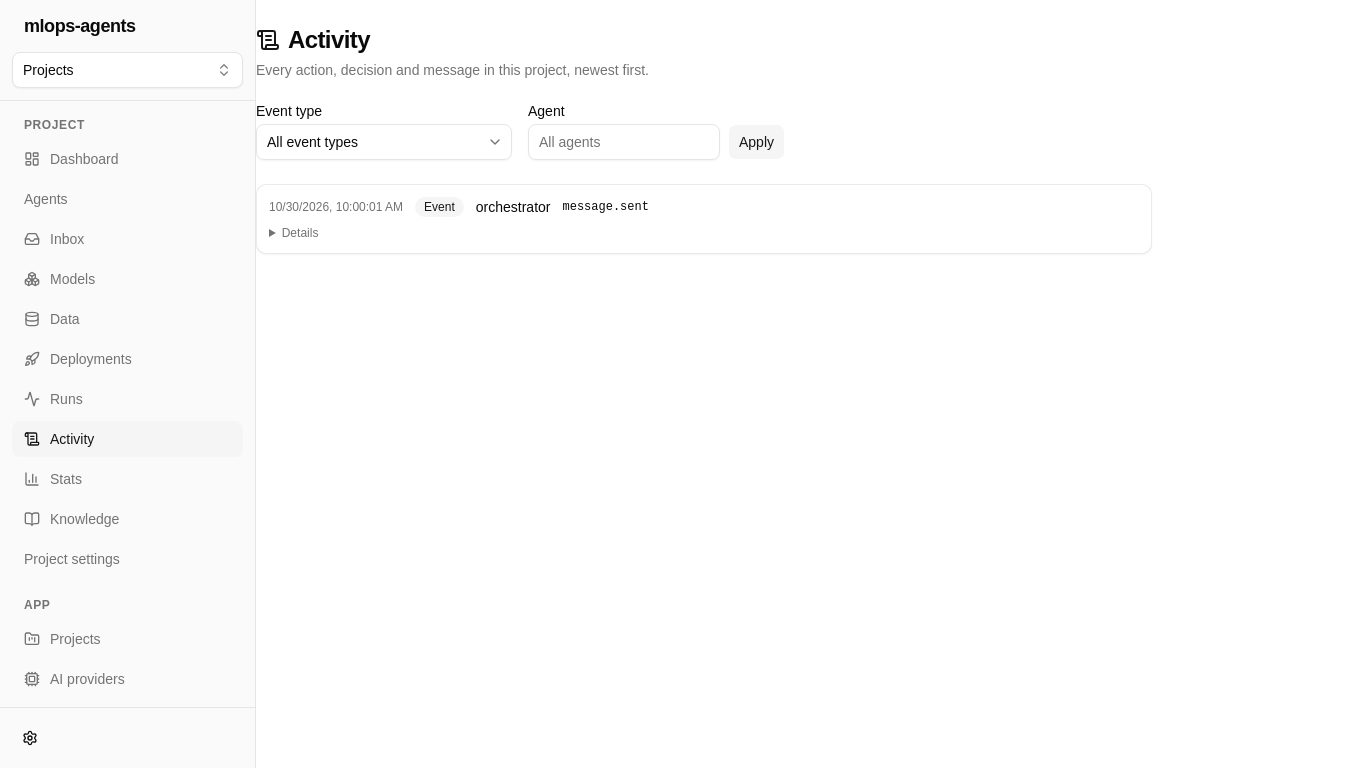
Scenario: ActivityPage › says nothing matches when a filter is active and the result is empty
This screenshot has width=1366, height=768.
expect the list item with test id "activity-event-evt_1" is shown: met, box [256, 184, 1152, 254]
In the field labelled "Agent": (624, 142) [528, 124, 720, 160], type "coder"
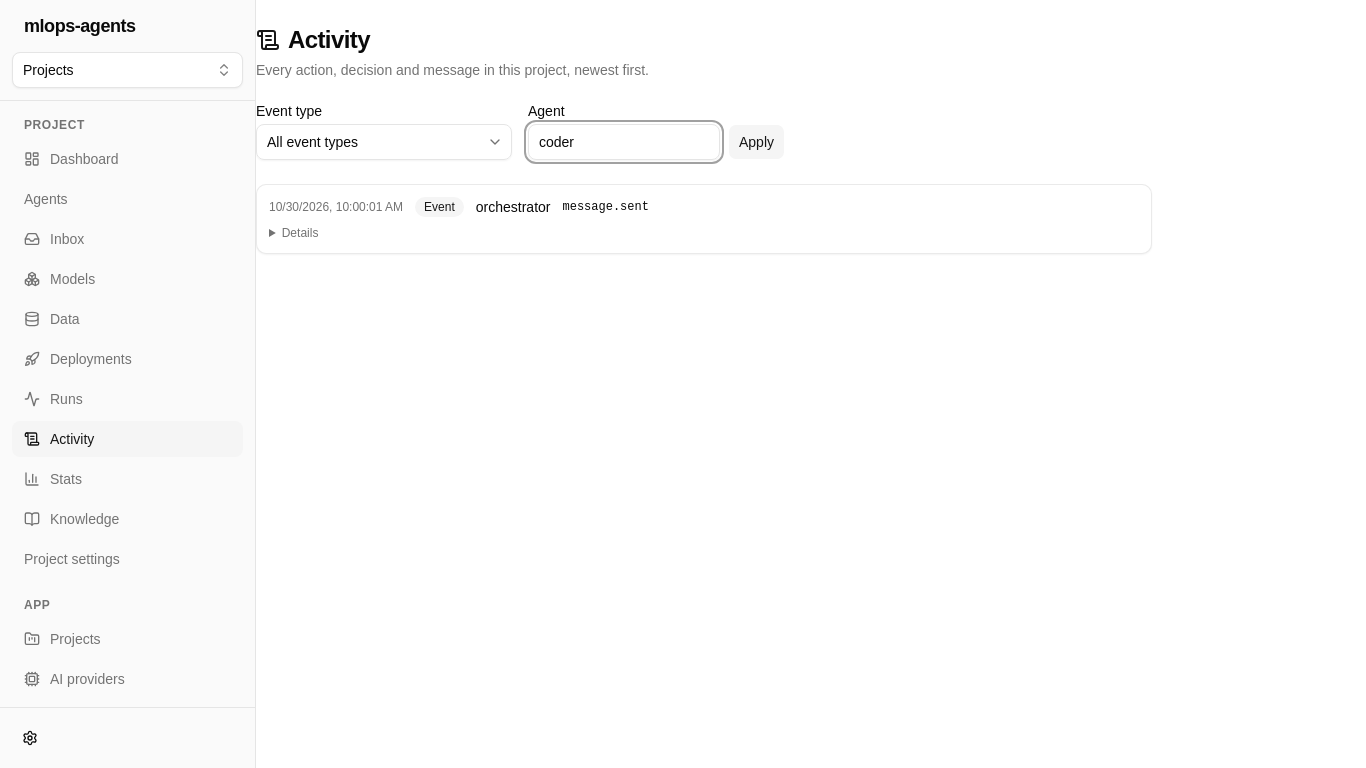
Click the button "Apply": (756, 142) [728, 124, 785, 160]
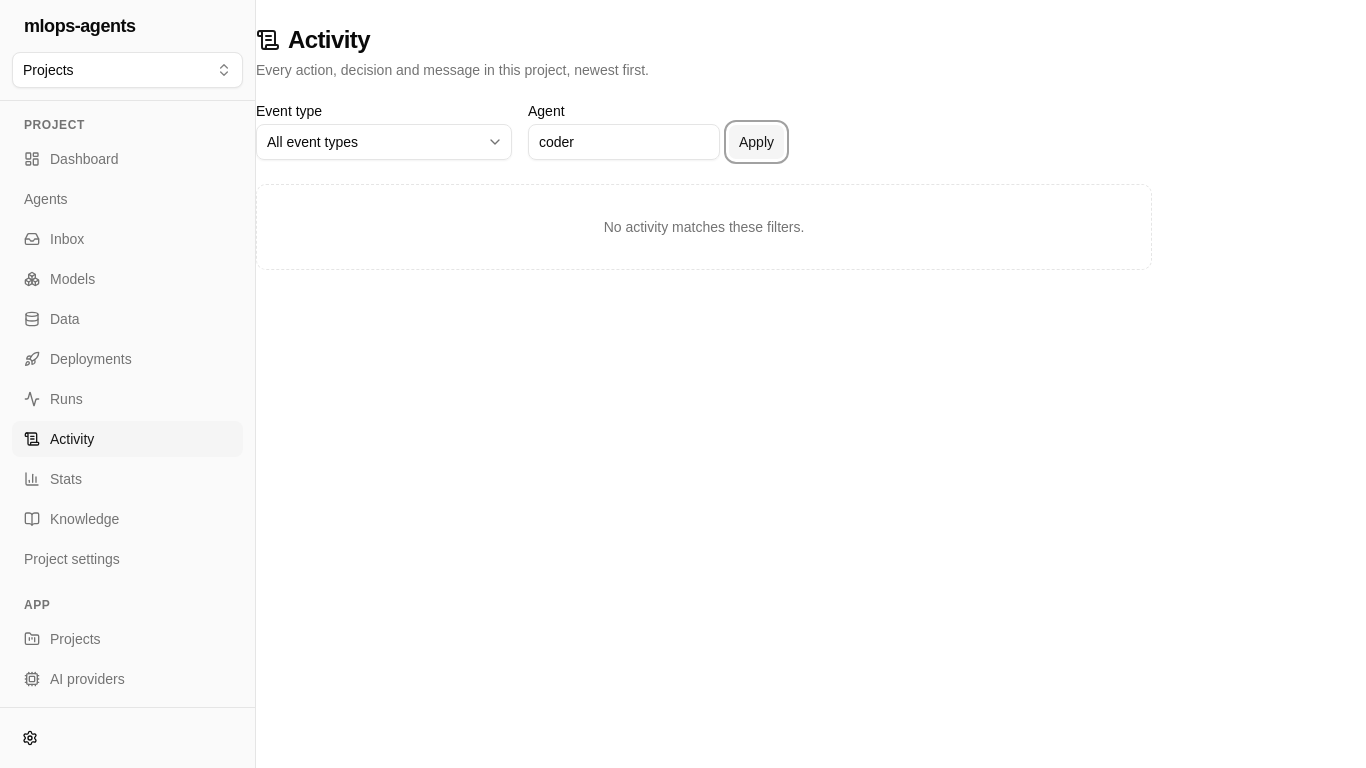
expect the text "No activity matches these filters." is shown: met, box [604, 219, 804, 235]
